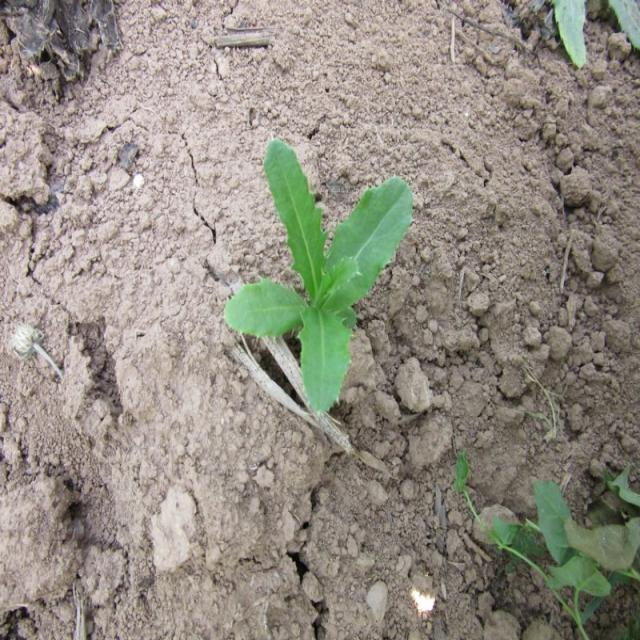cs: (223, 132, 418, 422)
